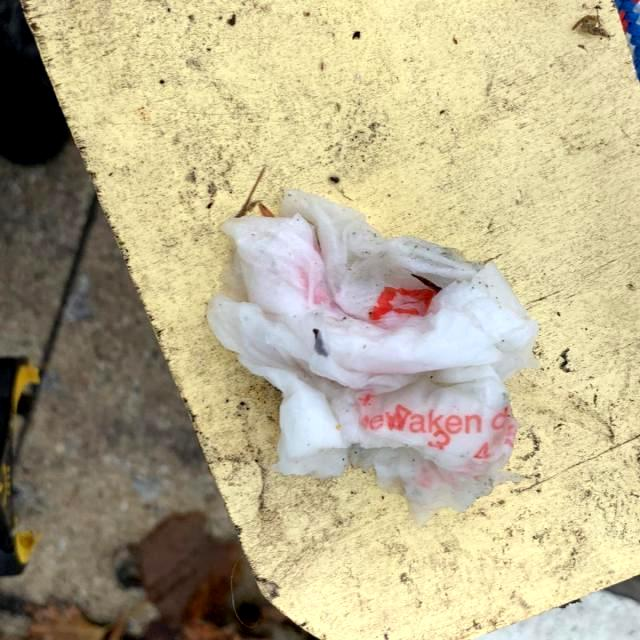Paper: (205, 185, 543, 527)
